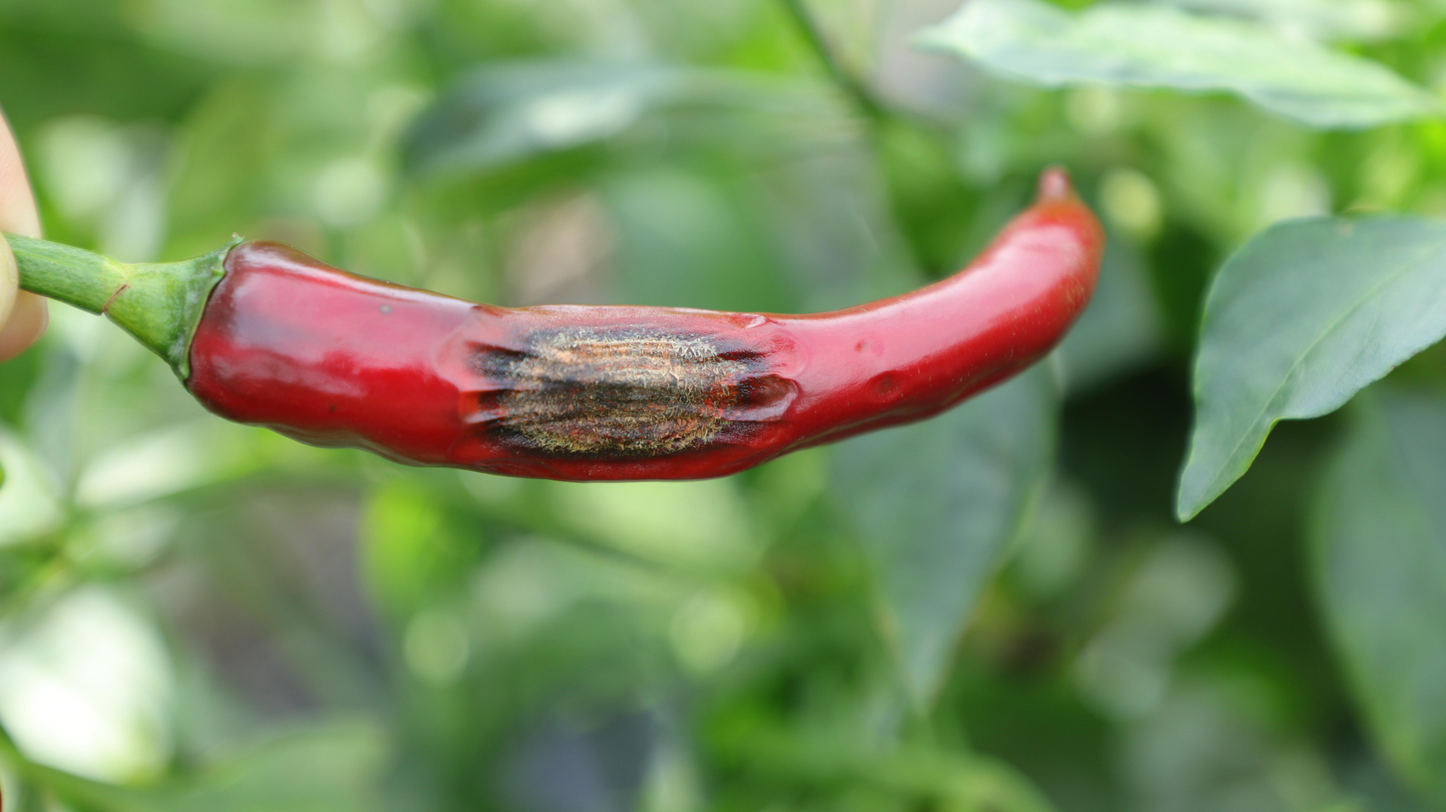Busuk Buah Antraknosa: (150, 162, 1109, 487)
